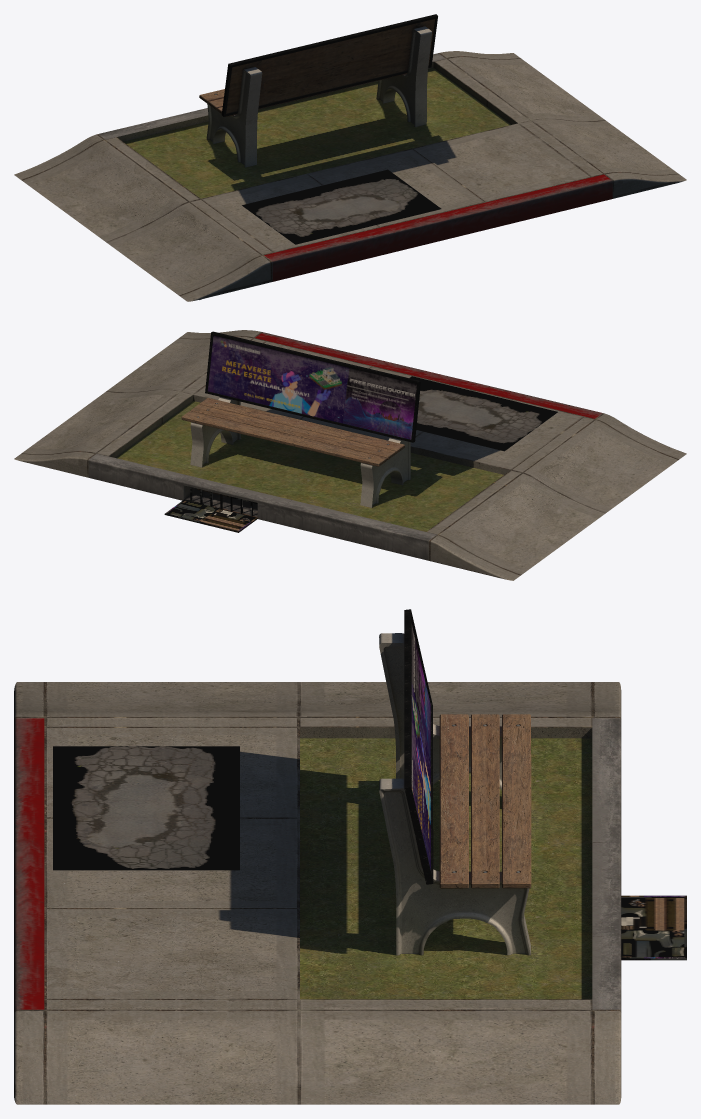
The model's file is busstop_bench_&_sidewalk.fbx.
3 renders of one model, top to bottom at view 1: azimuth 30°, elevation 25°; view 2: azimuth 150°, elevation 25°; view 3: azimuth 270°, elevation 25°, orthographic. The views are drawn at different scales.
Visible parts, largest first — view 1: sidewalk_bench_vis; view 2: sidewalk_bench_vis; view 3: sidewalk_bench_vis.
Part boxes in pixels (x1,y1,x2,y2): sidewalk_bench_vis: (14, 14, 686, 301); sidewalk_bench_vis: (14, 330, 686, 580); sidewalk_bench_vis: (14, 609, 686, 1104).
Size of the model in its own units: 528 by 119 by 355.
4 materials, 4 textured.
